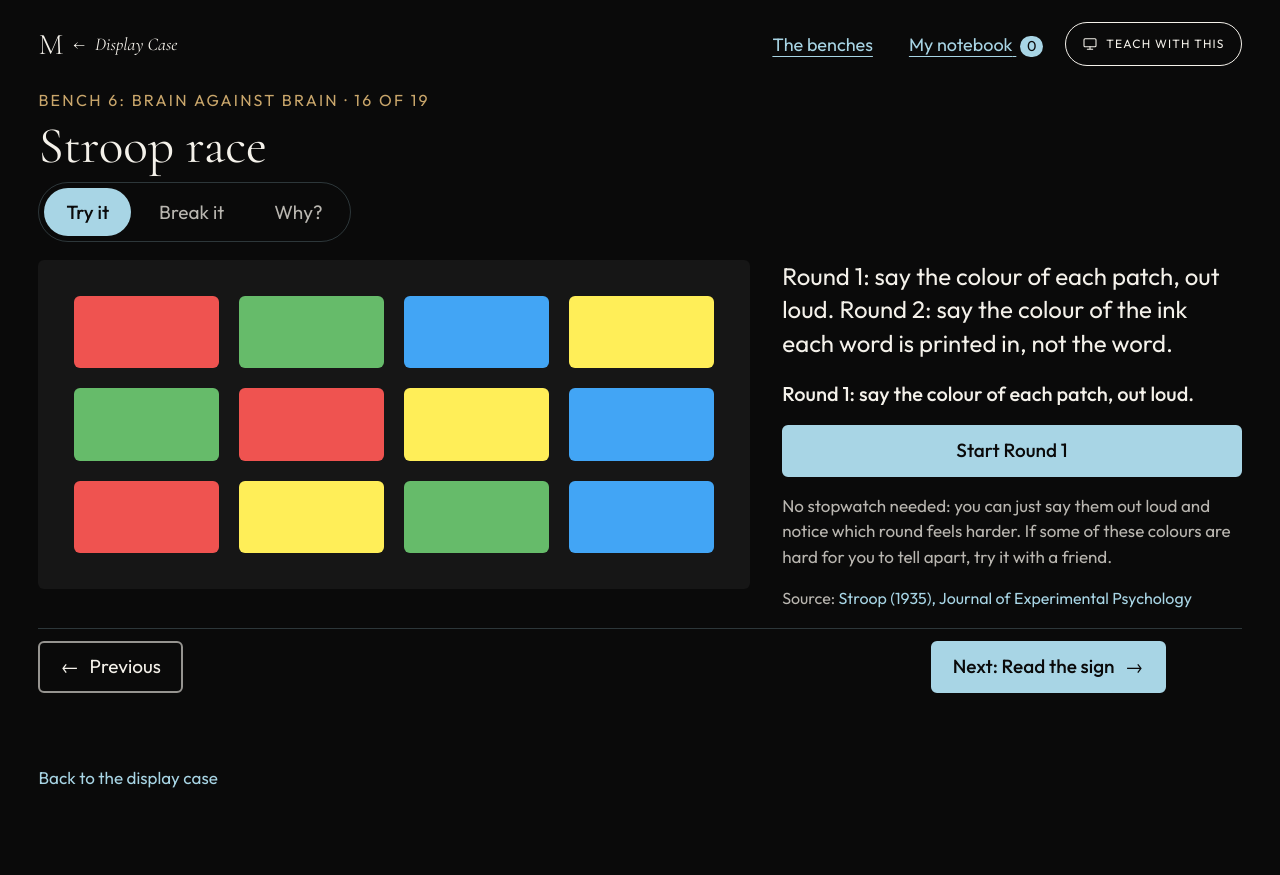
Test: a station: Try it, Break it, Why? › times a Stroop race, round by round
Click the button "Start Round 1". click: (1012, 450)
box: [782,424,1242,476]
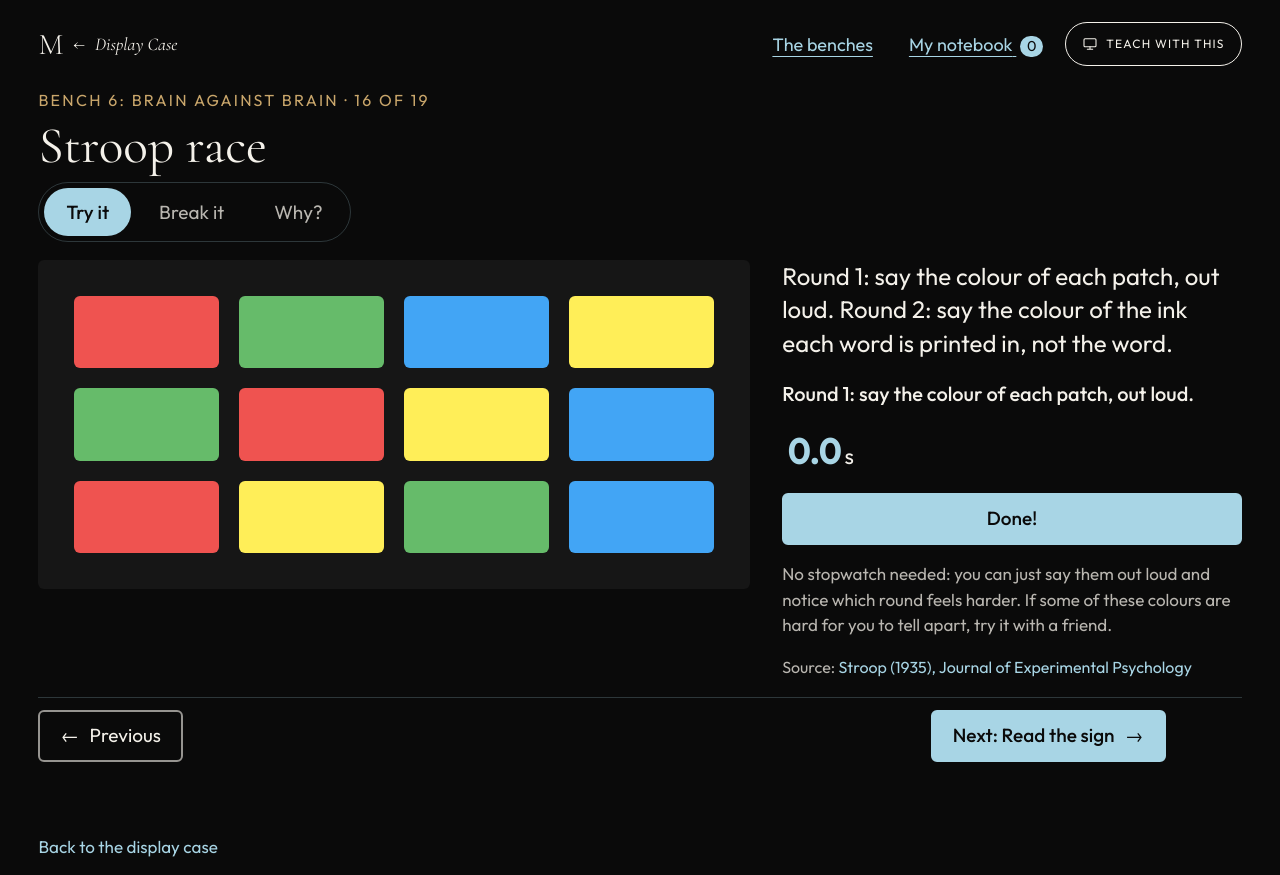
Click the button "Done!". click: (1012, 519)
box: [782,493,1242,545]
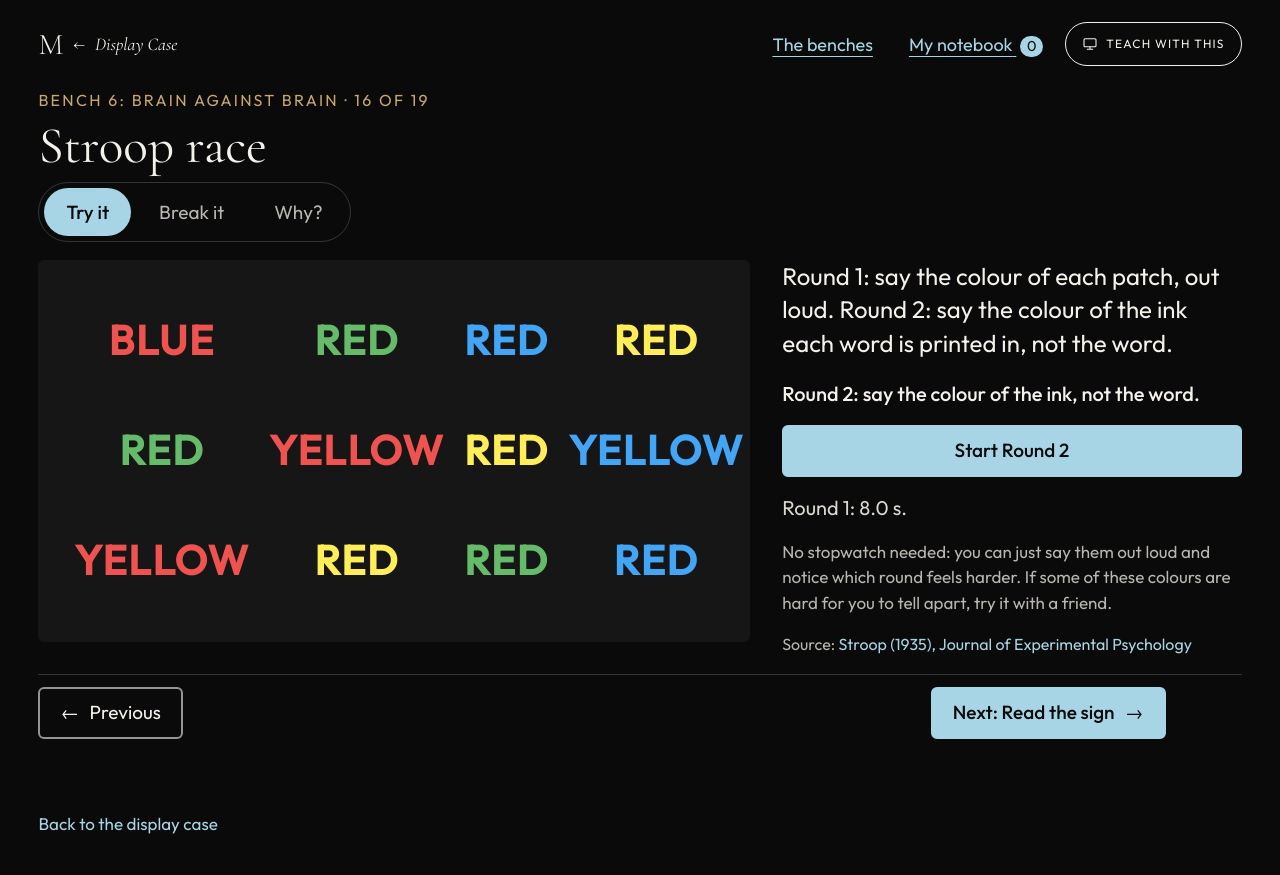
Expected: the button "Start Round 2" is shown
Click the button "Start Round 2". click: (1012, 450)
box: [782,424,1242,476]
Wait 200 ms
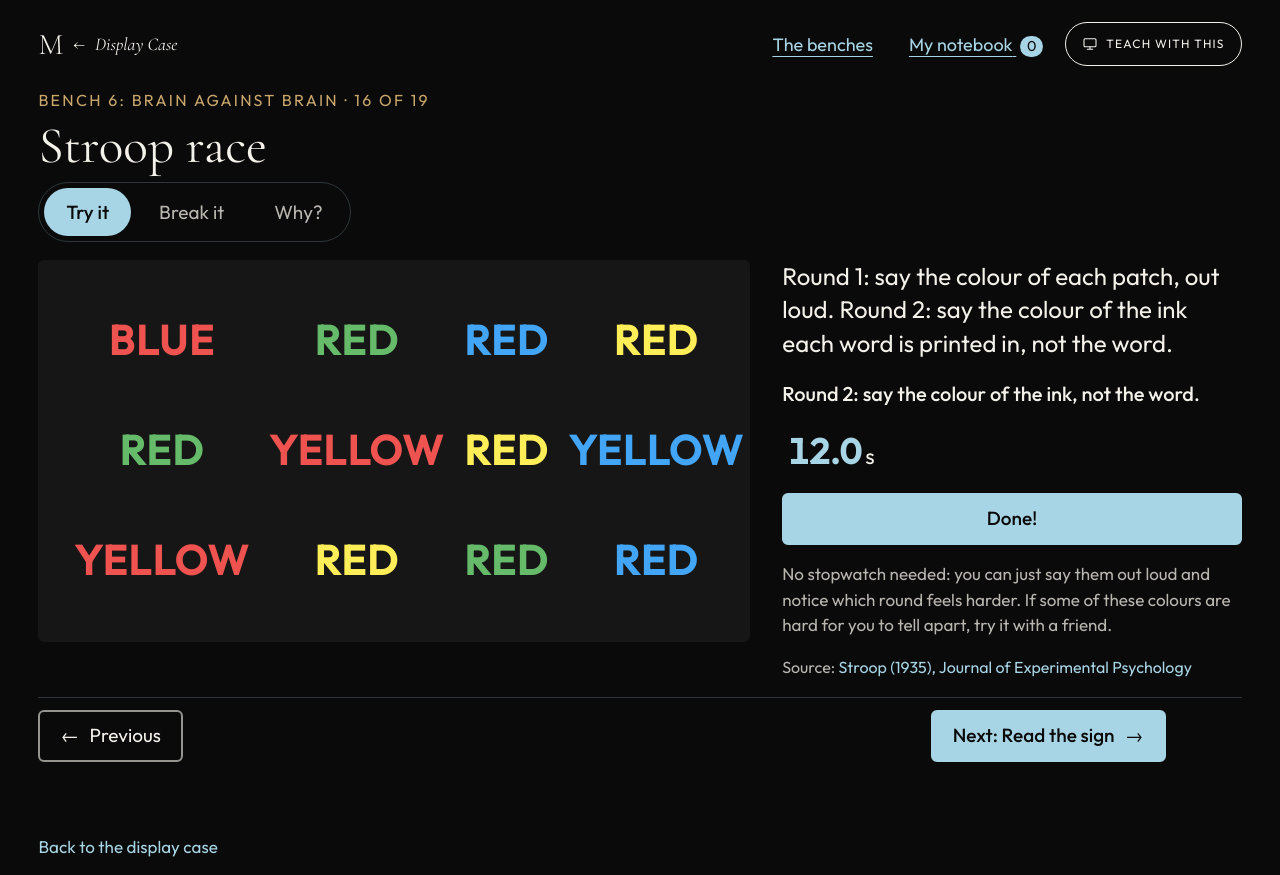
Click the button "Done!". click: (1012, 519)
box: [782,493,1242,545]
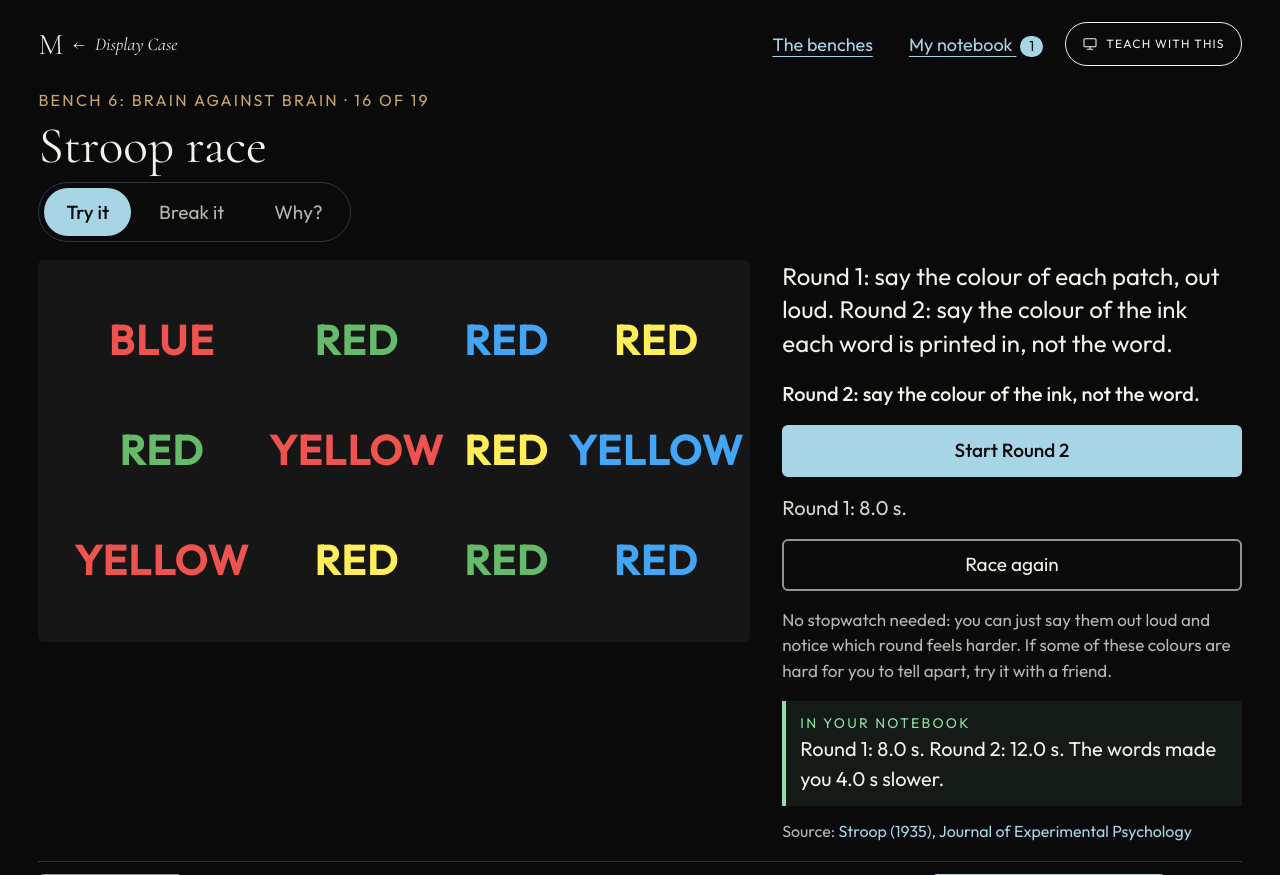
Expected: the text "Round 1: 8.0 s. Round 2: 12.0 s. The words made you 4.0 s slower." is shown, [800,736,1216,791]
